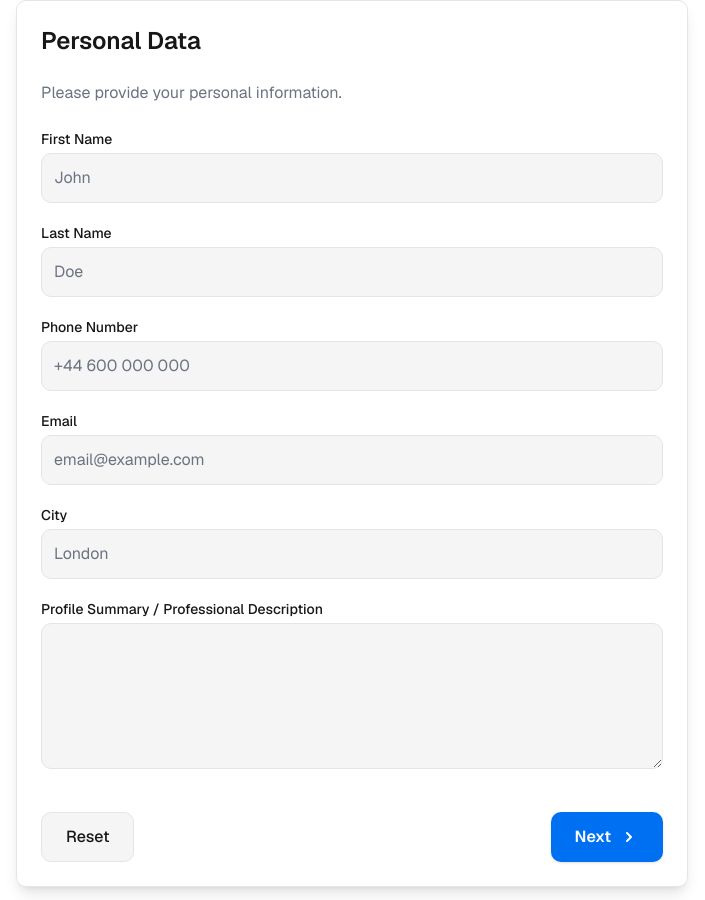
it: UserForm Component › Walidacja formularza › powinien pokazać błędy walidacji dla wymaganych pól, jeśli podjęto próbę wysłania pustych danych
Click the button "Next".
click(607, 837)  # box x1=551 y1=812 x2=663 y2=862
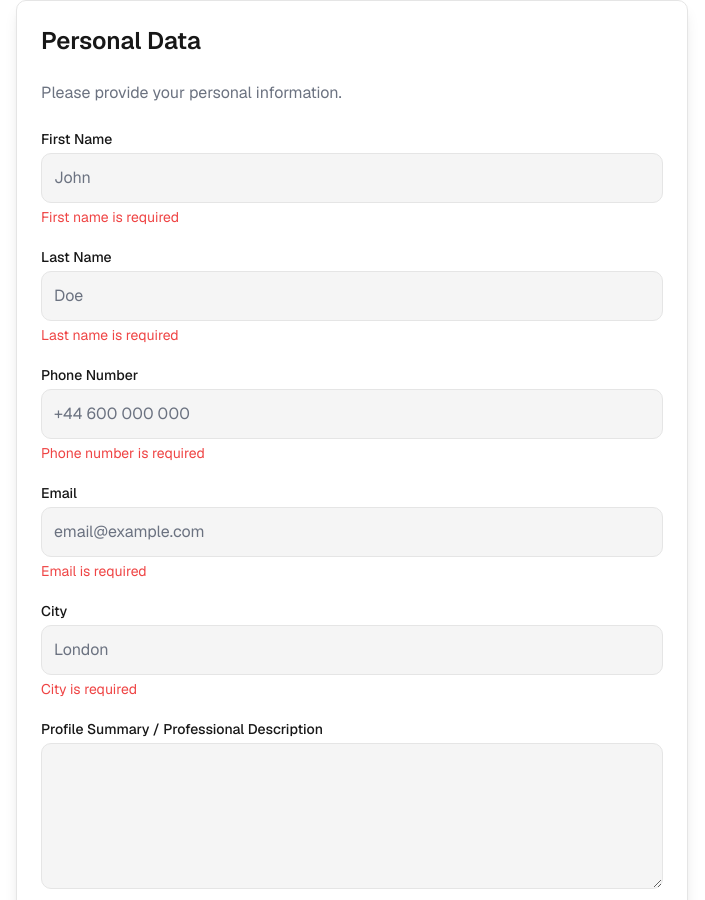
Expected: the text "First name is required" is shown, x1=41 y1=208 x2=179 y2=226
Expected: the text "Last name is required" is shown, x1=41 y1=326 x2=179 y2=344
Expected: the text "Phone number is required" is shown, x1=41 y1=444 x2=205 y2=462
